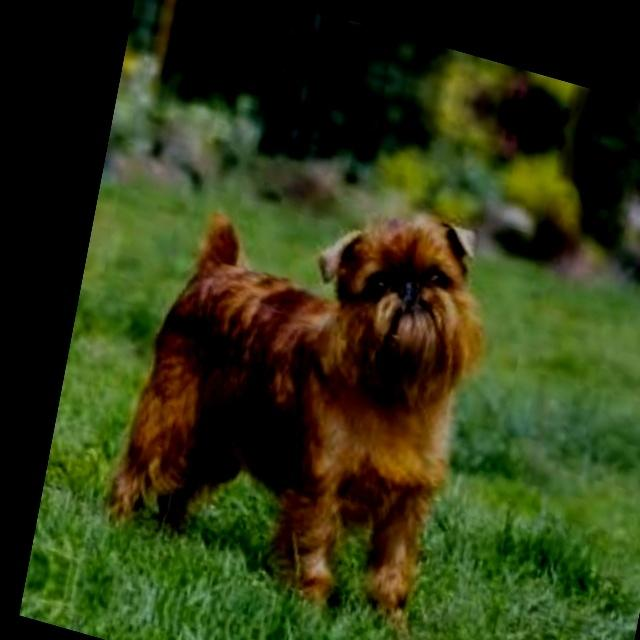dog: (100, 133, 514, 640)
